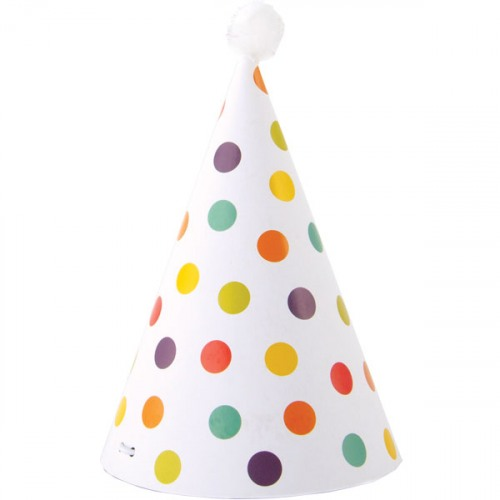cone: (101, 57, 403, 500)
